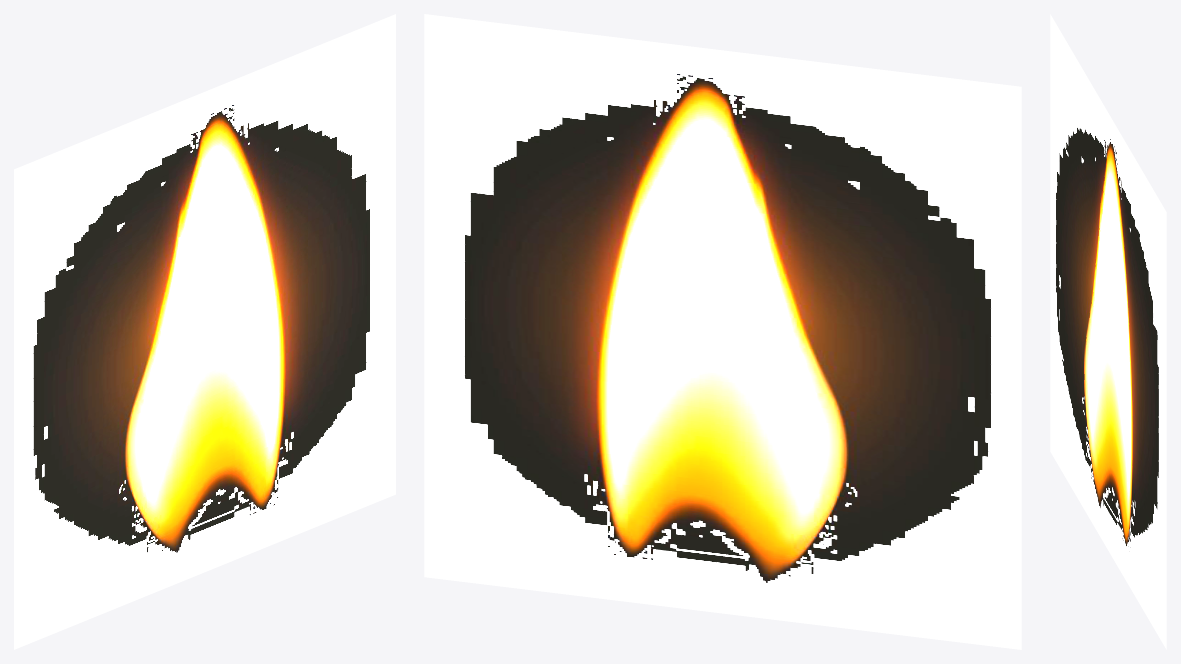
The picture shows the model from 3 angles, left to right: view 1: azimuth 30°, elevation 25°; view 2: azimuth 150°, elevation 25°; view 3: azimuth 270°, elevation 25°; orthographic projection. The views are drawn at different scales.
Parts seen in each view (by area): view 1: _87; view 2: _87; view 3: _87.
Boxes of the visible parts, left/top/right/bottom form: _87: left=14, top=14, right=395, bottom=649; _87: left=424, top=14, right=1021, bottom=649; _87: left=1050, top=14, right=1166, bottom=649.
Bounding box in the file's own units: 10.88 × 11.21 × 2.7.
